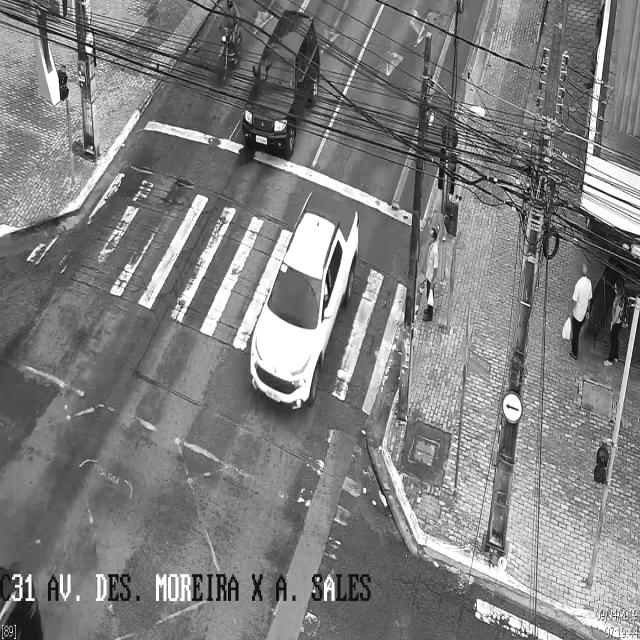Car: (249, 189, 358, 411), (243, 6, 319, 164)
Motorcycle: (218, 1, 240, 83)
